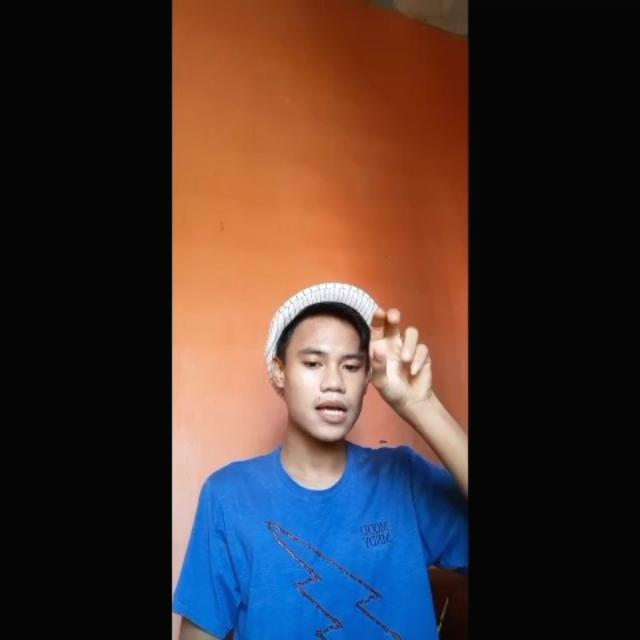R: (364, 303, 442, 413)
